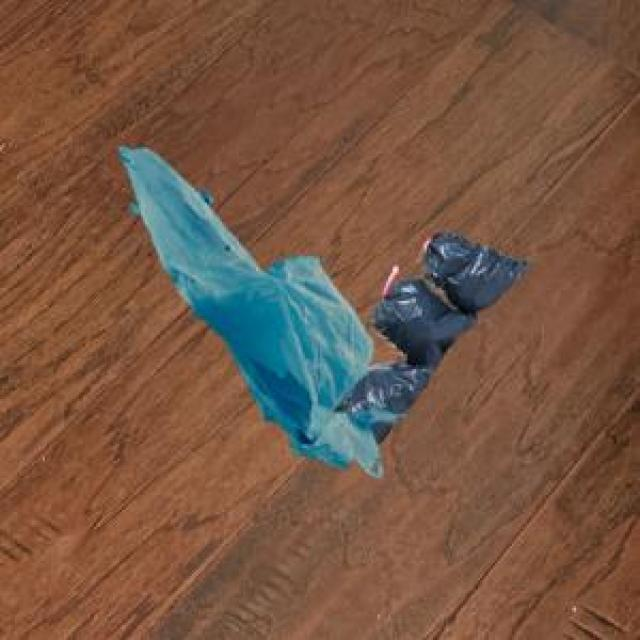miscellaneous trash: (331, 228, 526, 442)
